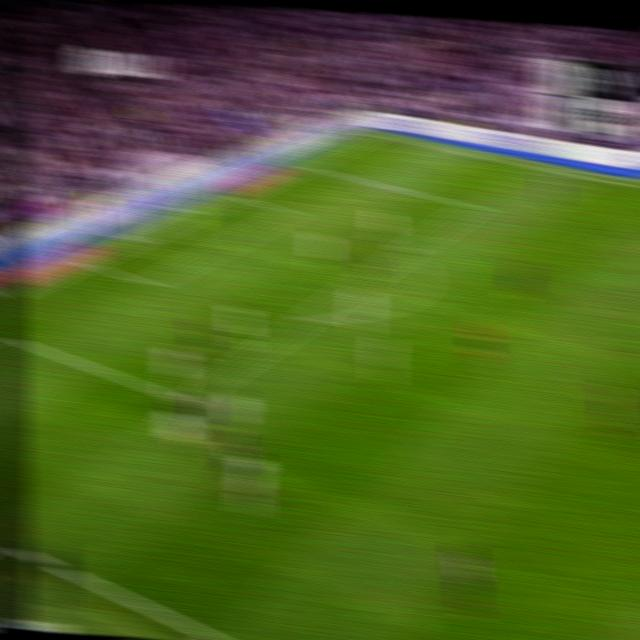bigarea_bottom_inner: (173, 389, 199, 412)
bigarea_top_inner: (462, 198, 483, 213)
bottom_arc_area_intersection: (295, 308, 321, 328)
corner: (366, 130, 384, 137)
smallarea_top_inner: (280, 205, 299, 217)
top_arc_area_intersection: (396, 243, 418, 258)
